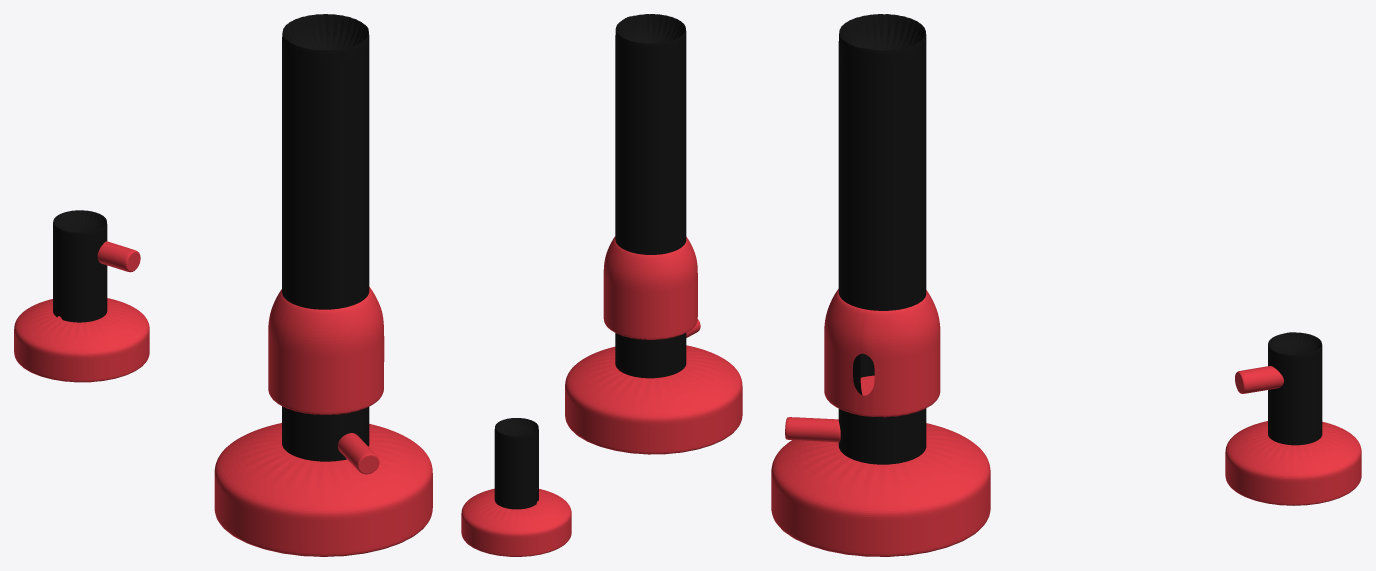
Rendered from BunsenBurner.fbx.
3 views of the same model, side by side, from view 1: azimuth 30°, elevation 25°; view 2: azimuth 150°, elevation 25°; view 3: azimuth 270°, elevation 25° (orthographic). The views are drawn at different scales.
Visible parts, largest first — view 1: Cylinder, Cylinder.002, Cylinder.001, Cylinder.005, Cylinder.004, Cylinder.003, Cylinder.006; view 2: Cylinder, Cylinder.002, Cylinder.001, Cylinder.005, Cylinder.004; view 3: Cylinder, Cylinder.002, Cylinder.001, Cylinder.005, Cylinder.004, Cylinder.003, Cylinder.006.
Part boxes in pixels (<box>): Cylinder: <box>282,14,369,461</box>; Cylinder.002: <box>214,423,432,556</box>; Cylinder.001: <box>268,287,384,414</box>; Cylinder.005: <box>14,298,149,382</box>; Cylinder.004: <box>53,210,107,322</box>; Cylinder.003: <box>337,433,379,474</box>; Cylinder.006: <box>97,241,140,272</box>; Cylinder: <box>615,14,686,378</box>; Cylinder.002: <box>565,345,742,454</box>; Cylinder.001: <box>603,236,697,339</box>; Cylinder.005: <box>461,488,571,556</box>; Cylinder.004: <box>494,418,538,509</box>; Cylinder: <box>838,14,926,464</box>; Cylinder.002: <box>771,423,990,556</box>; Cylinder.001: <box>824,289,940,417</box>; Cylinder.005: <box>1225,421,1361,505</box>; Cylinder.004: <box>1268,332,1322,445</box>; Cylinder.003: <box>785,417,840,442</box>; Cylinder.006: <box>1235,366,1283,393</box>.
Size of the model in its own units: 28.18 by 68.13 by 75.54.
